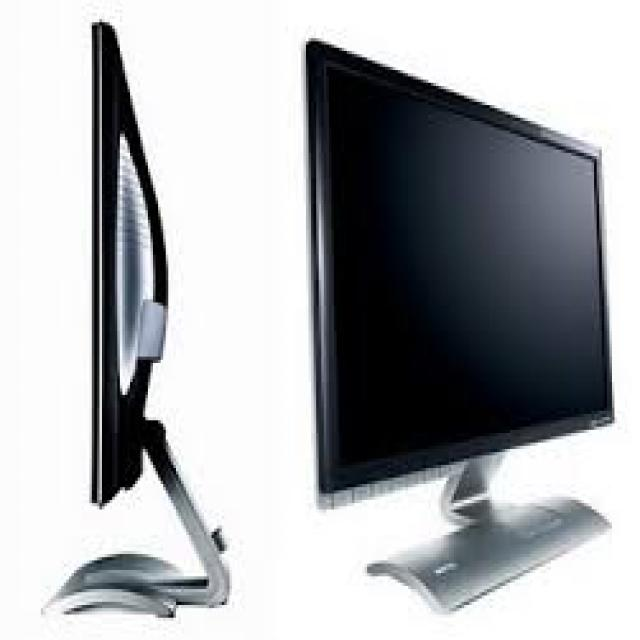monitor: (293, 34, 625, 613)
